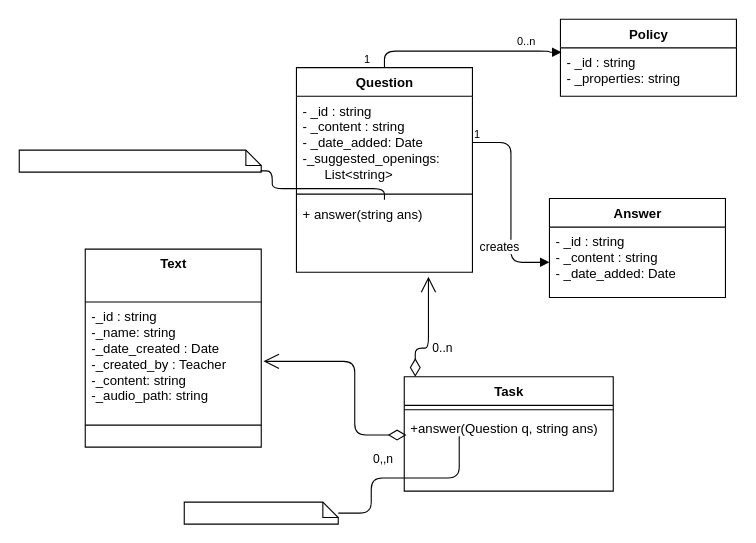
The diagram is 756 pixels wide and 543 high, and some of its shapes have lost their labels. Each missing label, with the centre of its shape:
"return new Answer(ans, Date.now())" goes at (139,160).
"return q.answer(ans)" goes at (260,512).
